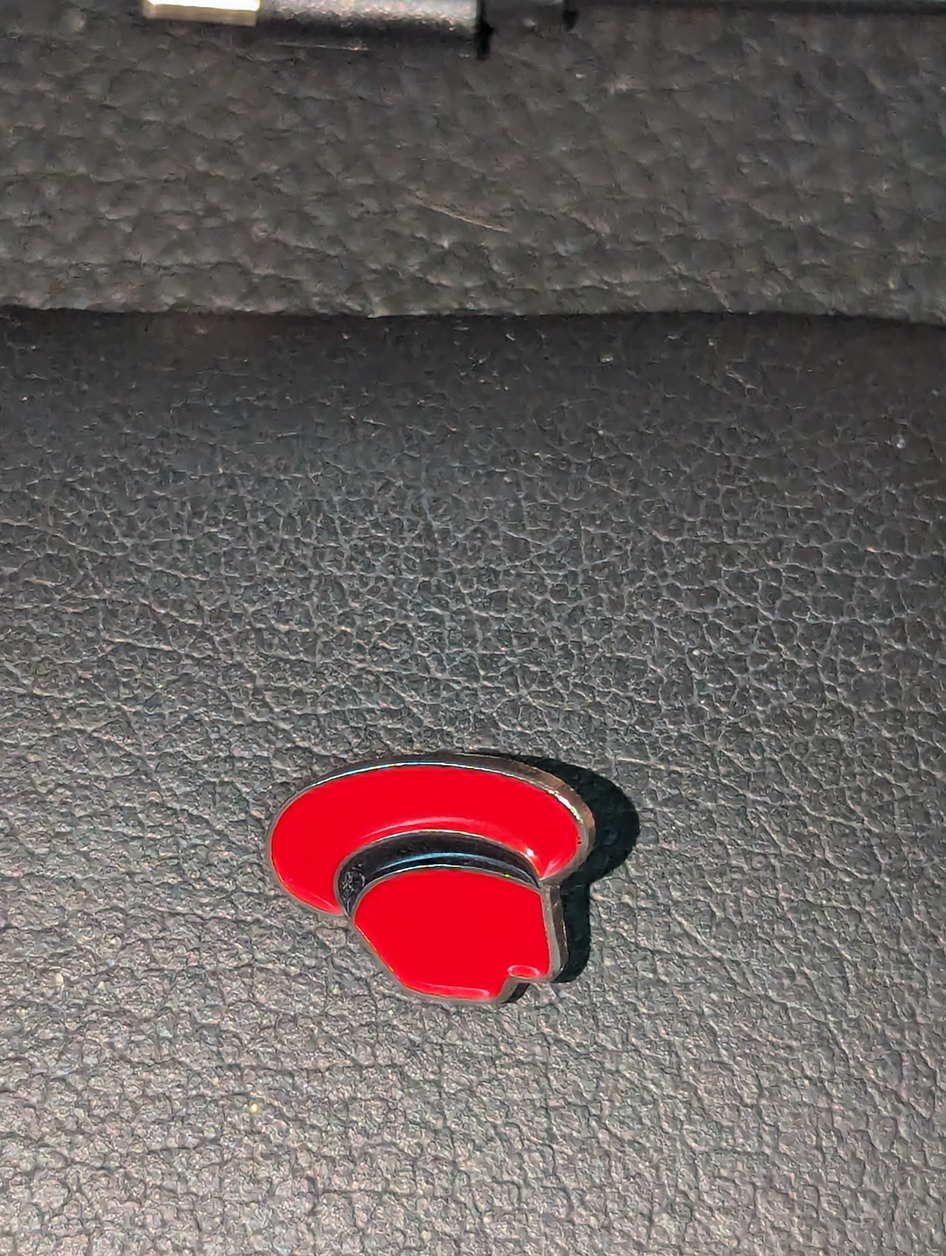Red-Hat: (156, 649, 722, 1093)
